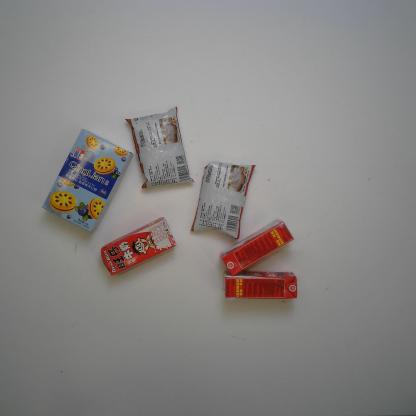Dessert: (40, 128, 135, 235)
Milk: (98, 215, 177, 277), (218, 215, 290, 279), (221, 268, 299, 302)
Seasoner: (123, 105, 193, 190), (189, 159, 257, 240)
